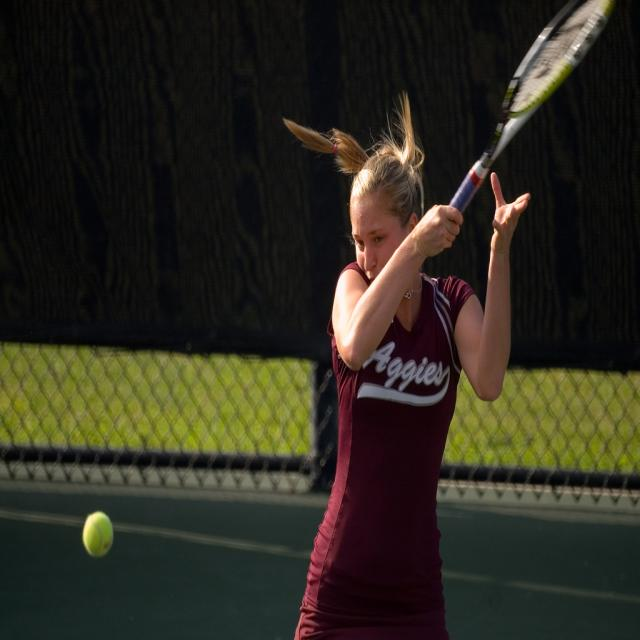Tennis ball: (82, 511, 113, 558)
